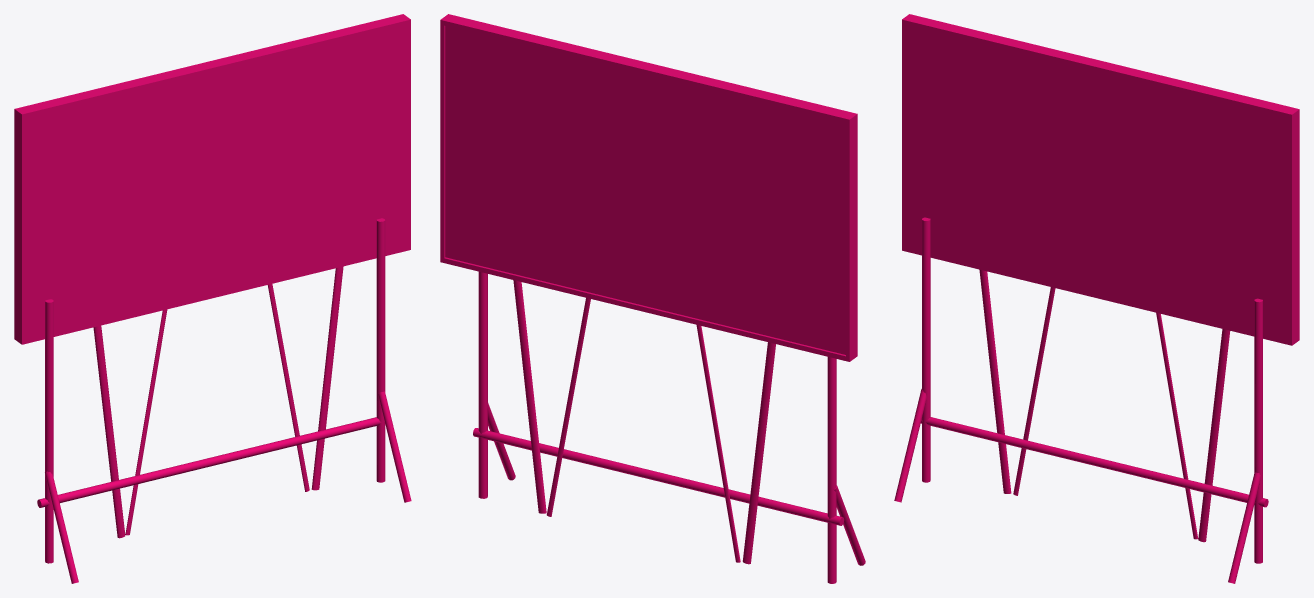
Rendered from Commercials_Bilboard_01_Lod0.fbx.
3 renders of one model, left to right at view 1: azimuth 30°, elevation 25°; view 2: azimuth 150°, elevation 25°; view 3: azimuth 330°, elevation 25°, orthographic. The views are drawn at different scales.
Parts seen in each view (by area): view 1: Commercials_Bilboard_01_Lod0; view 2: Commercials_Bilboard_01_Lod0; view 3: Commercials_Bilboard_01_Lod0.
Boxes of the visible parts, x1,y1,x2,y2 form: Commercials_Bilboard_01_Lod0: (14,14,411,583); Commercials_Bilboard_01_Lod0: (440,14,865,583); Commercials_Bilboard_01_Lod0: (894,14,1299,583).
Bounding box in the file's own units: 635 × 710 × 107.
